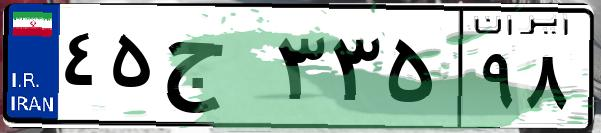3: (270, 28, 330, 110), (330, 28, 385, 110)
4: (57, 26, 110, 100)
5: (385, 28, 445, 110), (110, 28, 158, 98)
8: (525, 38, 570, 115)
9: (475, 38, 525, 113)
ج: (158, 20, 270, 120)
